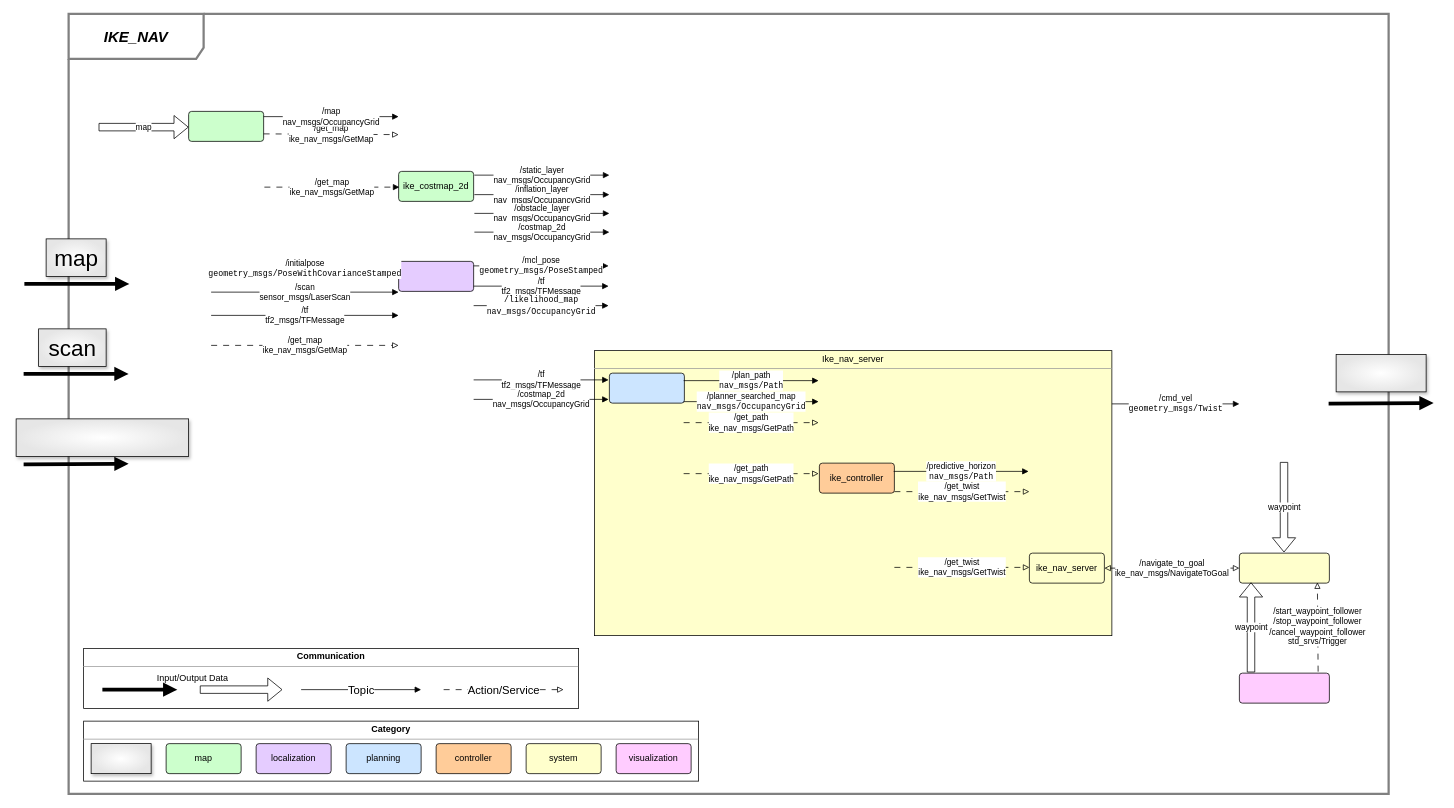
The diagram is 1454 pixels wide and 808 high, and some of its shapes have lost their labels. Here are the shapes that lost their labels. From the top down, the centre of each, then its label:
At point 226,126: "ike_map_server".
At point 436,276: "ike_localization".
At point 646,387: "ike_planner".
At point 1381,374: "velocity".
At point 102,438: "robot odometry".
At point 1284,567: "ike_waypoint_follower".
At point 1284,687: "ike_nav_rviz_plugins".
At point 121,759: "data".
